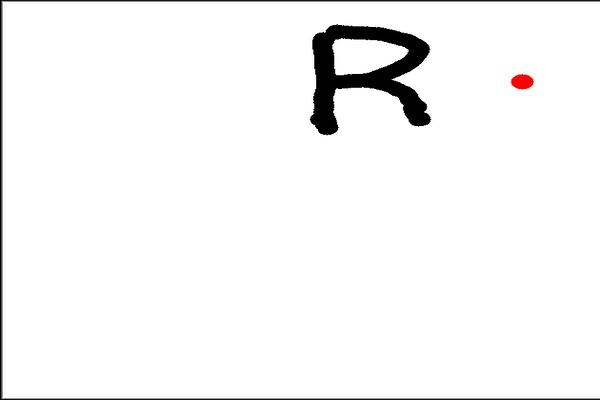R: (295, 14, 444, 137)
